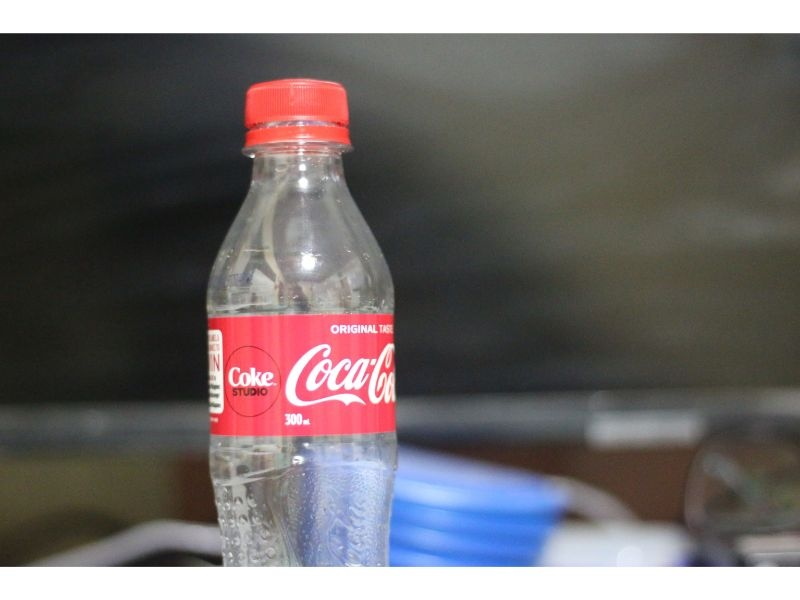PET #1: (203, 61, 399, 567)
